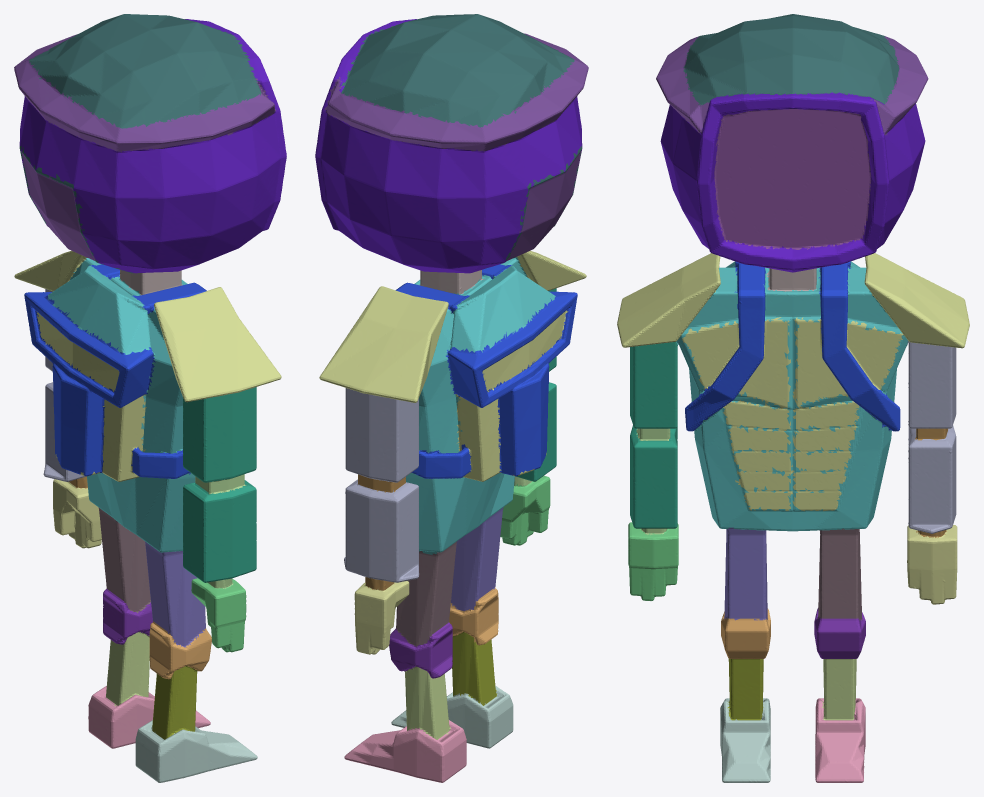
3 views of the same model, side by side, from view 1: azimuth 30°, elevation 25°; view 2: azimuth 150°, elevation 25°; view 3: azimuth 270°, elevation 25° (orthographic).
Parts seen in each view (by area): view 1: world; view 2: world; view 3: world.
Part boxes in pixels (left/top/right/bottom): world: left=14, top=14, right=286, bottom=782; world: left=315, top=14, right=588, bottom=782; world: left=617, top=14, right=969, bottom=782.
Size of the model in its own units: 0.564 by 1.91 by 0.8466.
